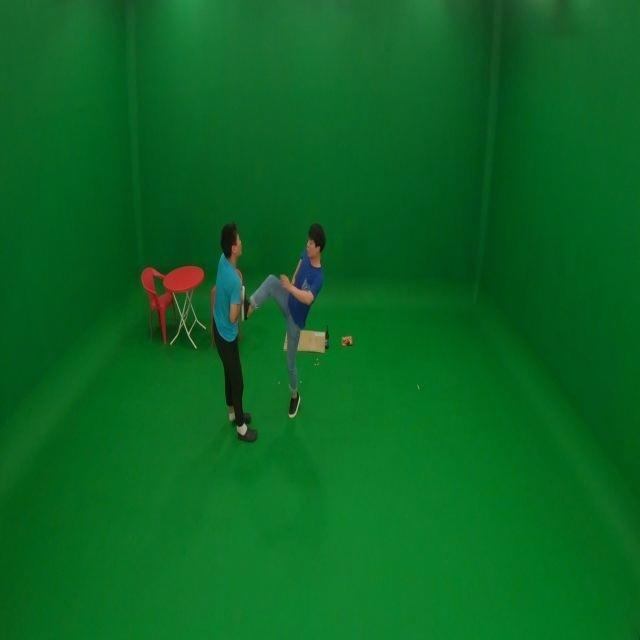fight: (207, 220, 330, 442)
